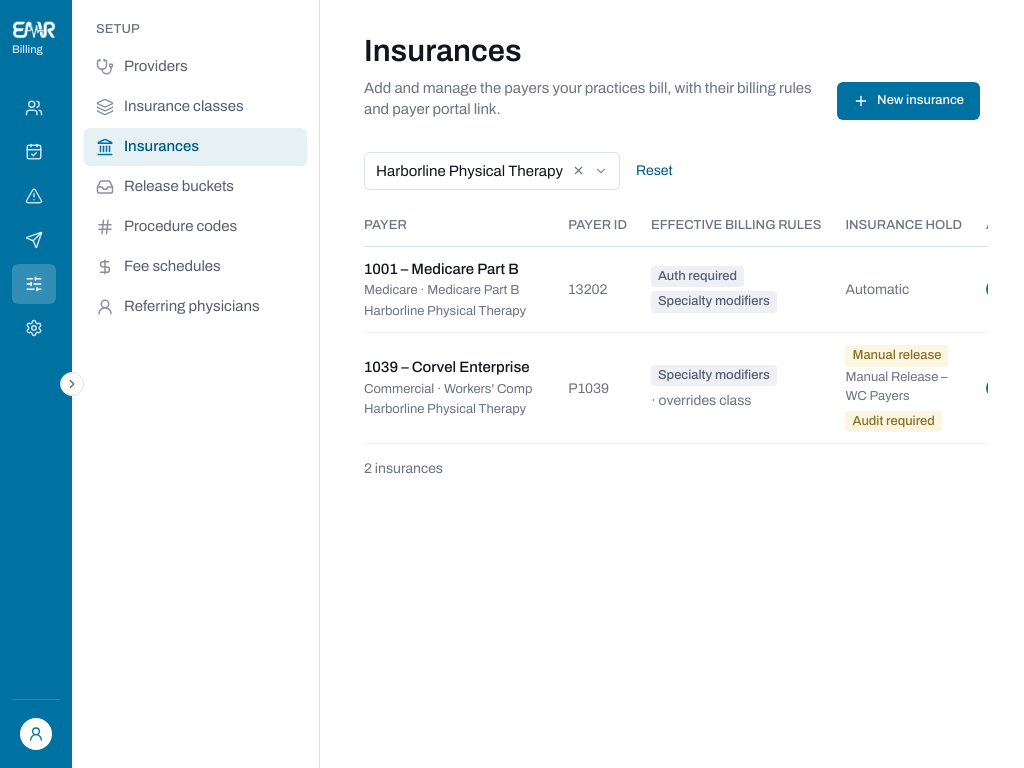
Test: Setup → Insurances › asks for an active release bucket of the practice only while the insurance hold is on
Click the button "New insurance" at (909, 101), box [837,82,980,120]
(page scrolled)
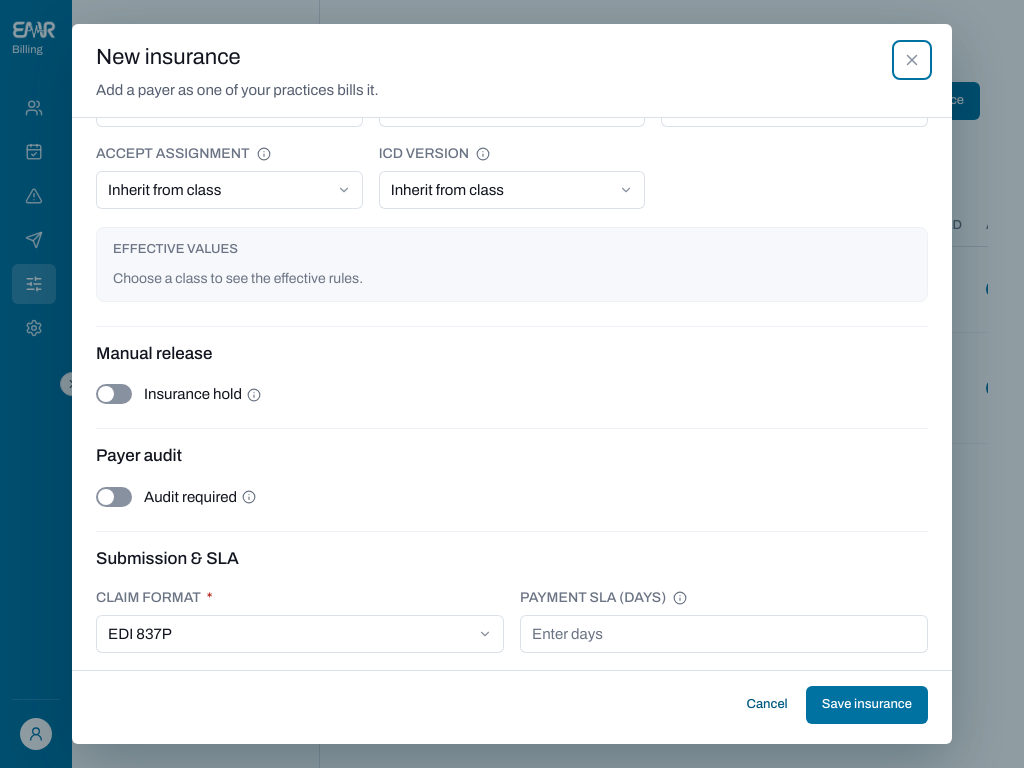
Click the 1st switch named "Insurance hold" at (114, 394), box [96,384,132,404]
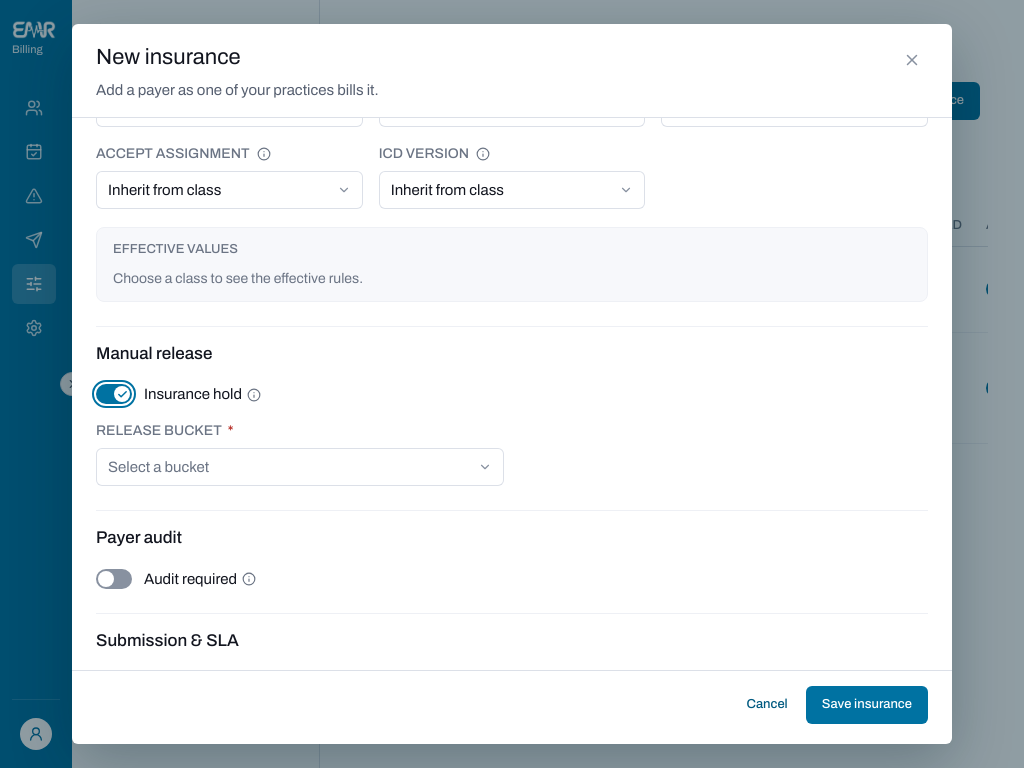
Click the dropdown named "release bucket" at (300, 467), box [96,448,504,486]
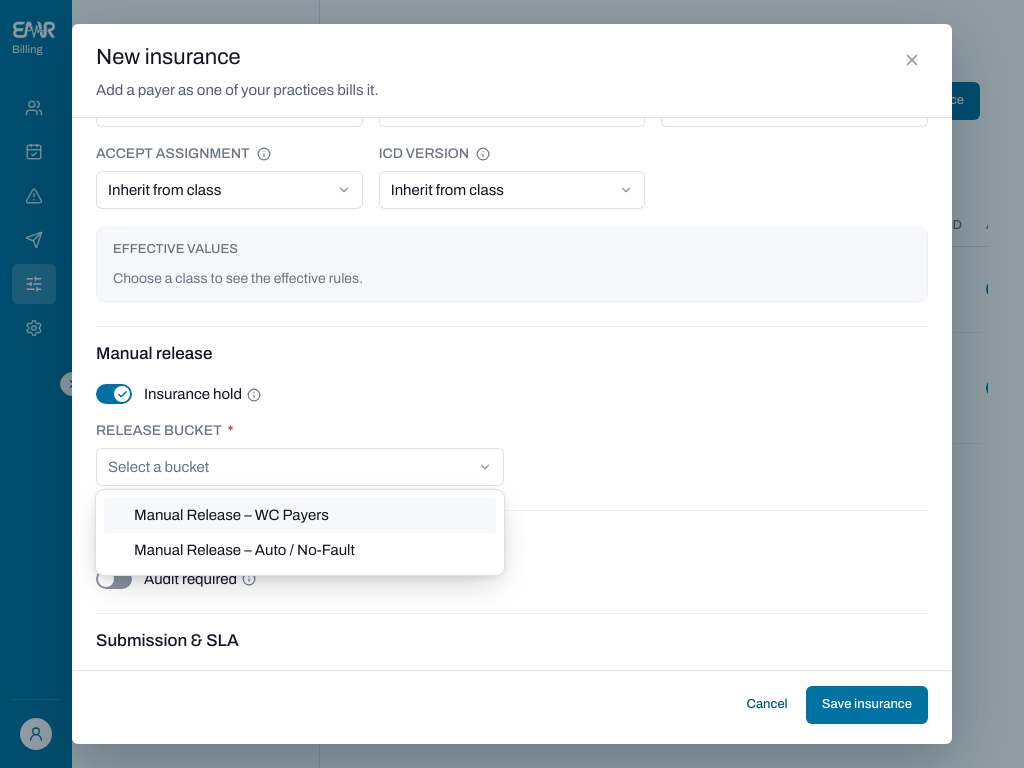
Press Escape
Click the button "Save insurance" at (867, 705), box [806,686,928,724]
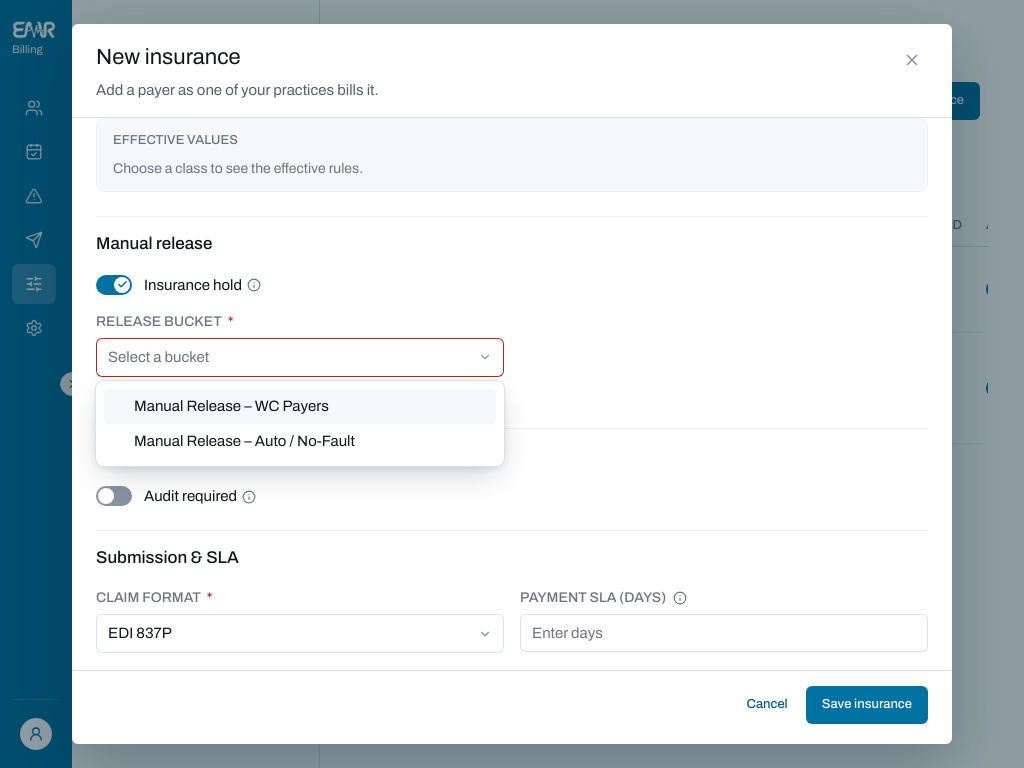
Check: the text "Select a release bucket." is shown, box [96,387,243,402]
